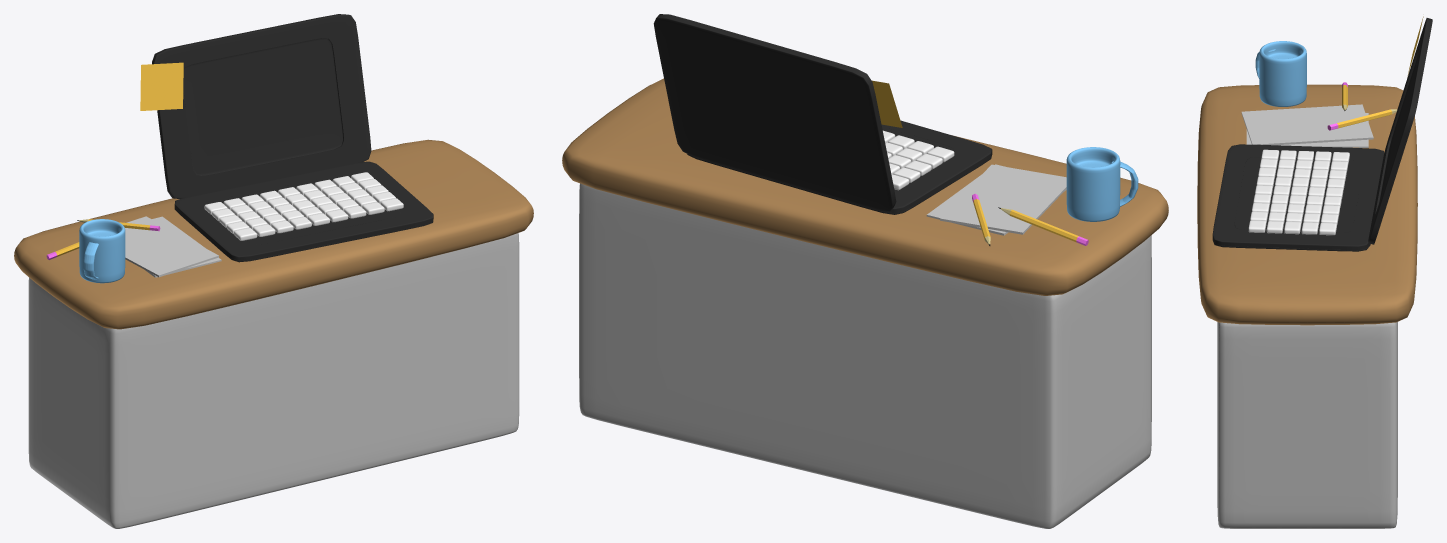
Rendered from desk2.glb.
3 views of the same model, side by side, from view 1: azimuth 30°, elevation 25°; view 2: azimuth 150°, elevation 25°; view 3: azimuth 270°, elevation 25° (orthographic). The views are drawn at different scales.
Visible parts, largest first — view 1: Cube.002; view 2: Cube.002; view 3: Cube.002.
Boxes of the visible parts, left/top/right/bottom form: Cube.002: left=14, top=14, right=533, bottom=528; Cube.002: left=562, top=14, right=1168, bottom=528; Cube.002: left=1197, top=16, right=1432, bottom=528.
Size of the model in its own units: 1.77 by 1.4 by 0.7779.
